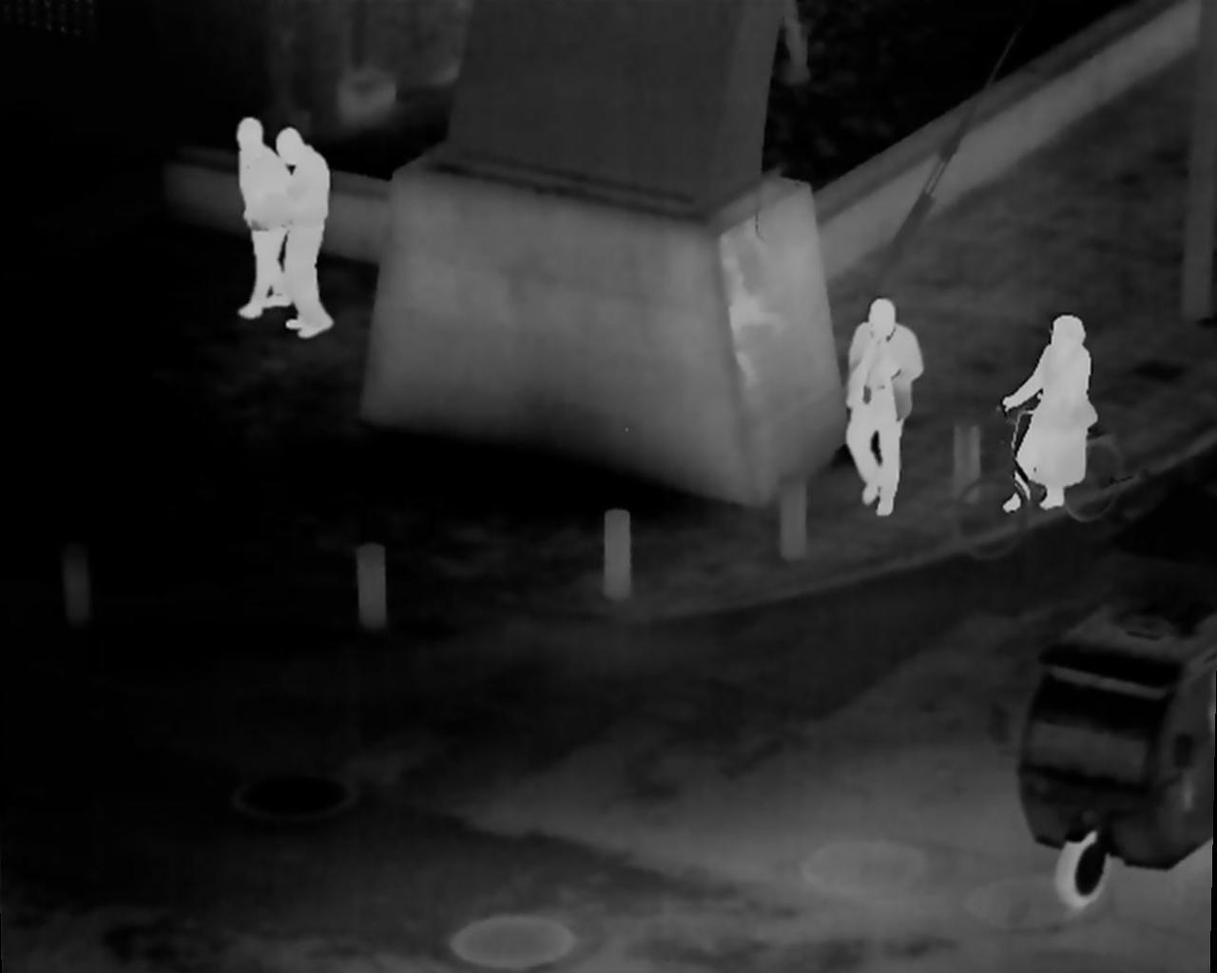person: (1003, 315, 1099, 515), (844, 304, 926, 512), (277, 130, 341, 333), (231, 117, 283, 314)
